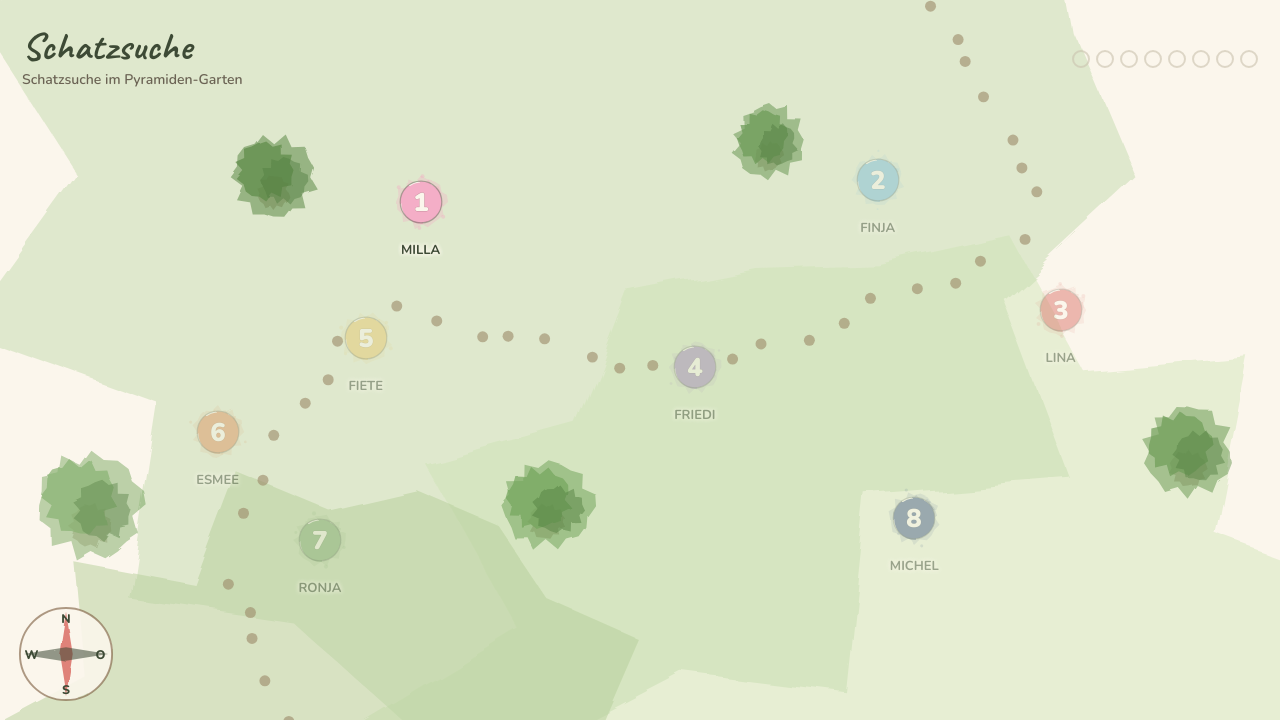
Scenario: MapScreen › opens the riddle modal when marker 1 is tapped
Step 1. Click the button with test id "station-marker-1" → click(421, 202), box [381,162,461,242]
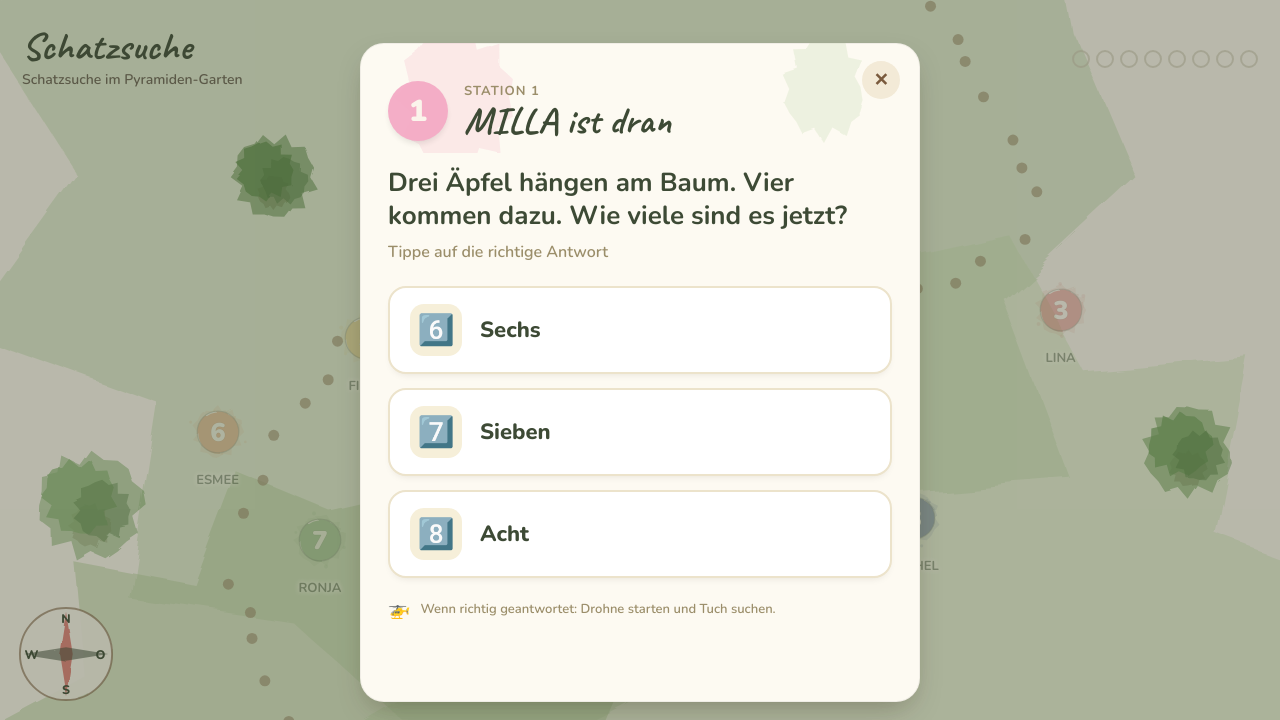
Check: the dialog is shown
Check: the heading "Drei Äpfel" is shown, box [388,165,847,233]
